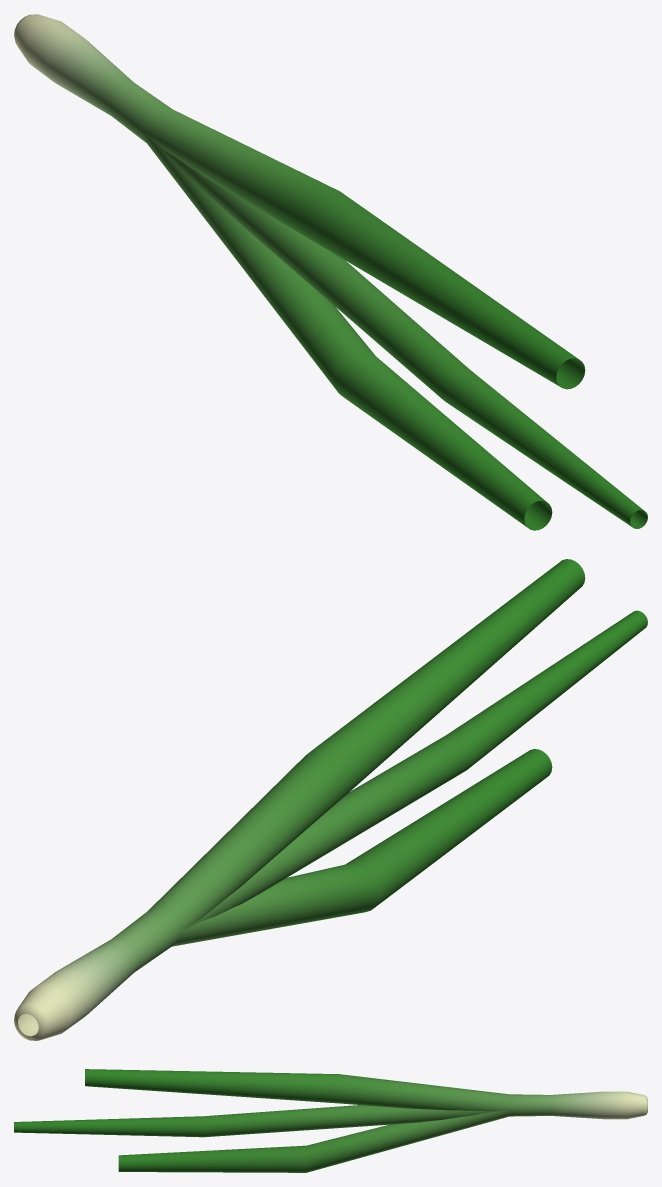
Rendered from chives_1 1.fbx.
The picture shows the model from 3 angles, top to bottom: view 1: azimuth 30°, elevation 25°; view 2: azimuth 150°, elevation 25°; view 3: azimuth 270°, elevation 25°; orthographic projection. The views are drawn at different scales.
Visible parts, largest first — view 1: Chives_1; view 2: Chives_1; view 3: Chives_1.
Boxes of the visible parts, bbox=[...] form: Chives_1: bbox=[14, 14, 647, 530]; Chives_1: bbox=[14, 559, 647, 1040]; Chives_1: bbox=[14, 1069, 647, 1172].
Bounding box in the file's own units: 997 × 46.49 × 177.
